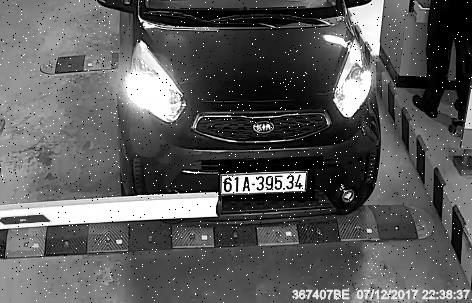License-plate: (219, 162, 316, 202)
